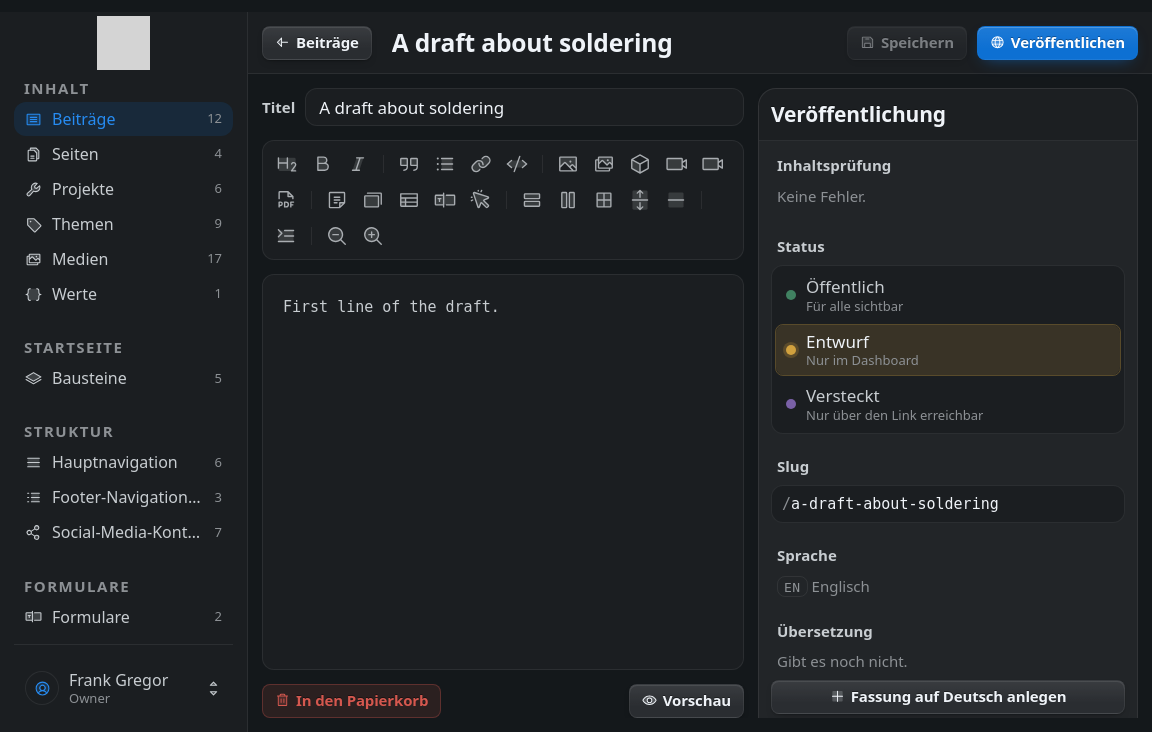
dashboard shell › saves a draft ending in a space once, because the space is not kept
This screenshot has width=1152, height=732.
Replace the text in the field labelled "Titel" with "Ends in a space ". click: (525, 107)
box: top-left (305, 88), bottom-right (744, 126)
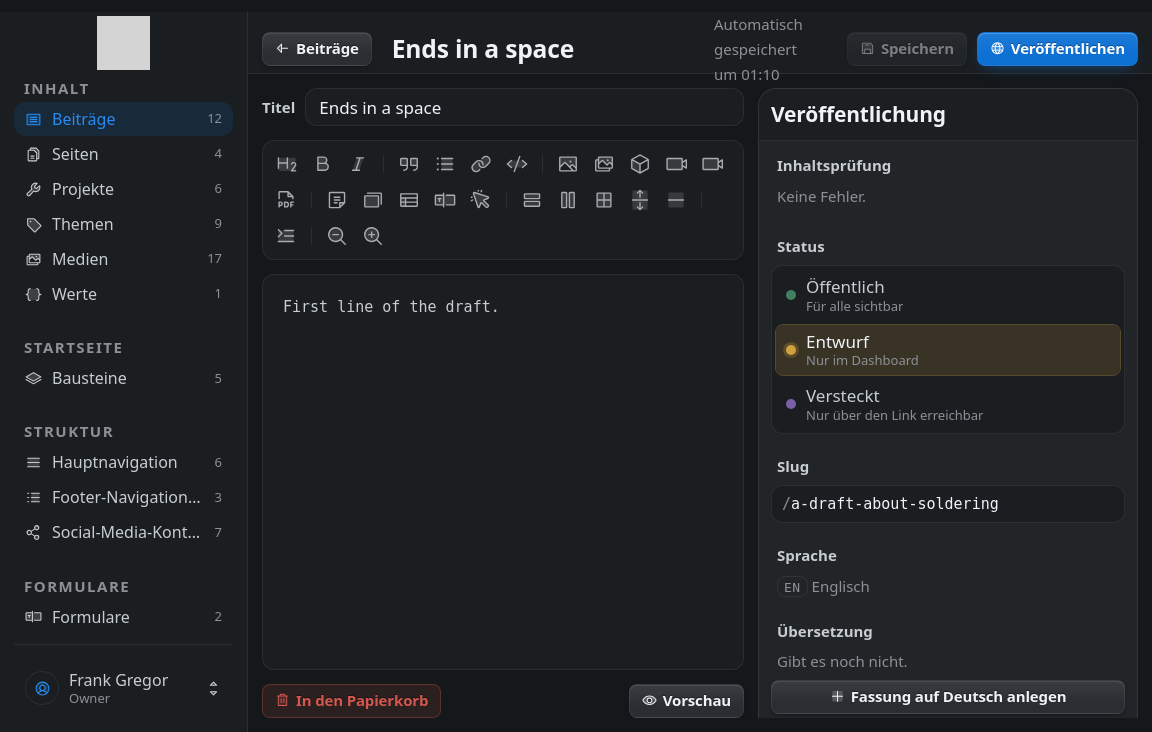
Expected: the message shows "Automatisch gespeichert um", top-left (714, 14), bottom-right (803, 84)
